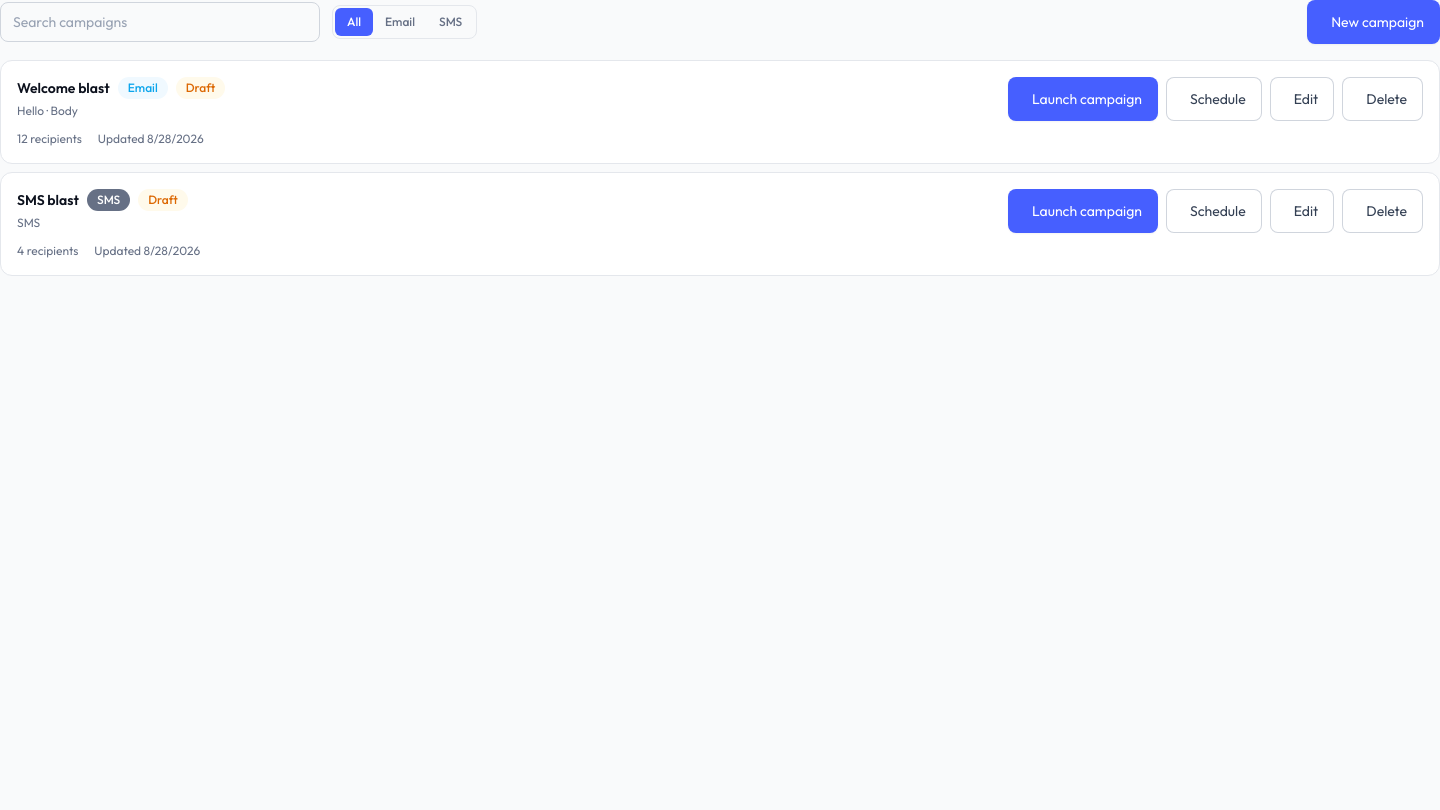
Test case: CampaignsTab › launches a draft campaign through confirmation flow
Expected: the heading "Welcome blast" is shown, [17,78,110,98]
What coordinates should you click on to do the following:
click the button "Launch campaign" in the row of "Welcome blast"
I would click on:
 (1083, 99)
Its box is [1008,77,1158,121].
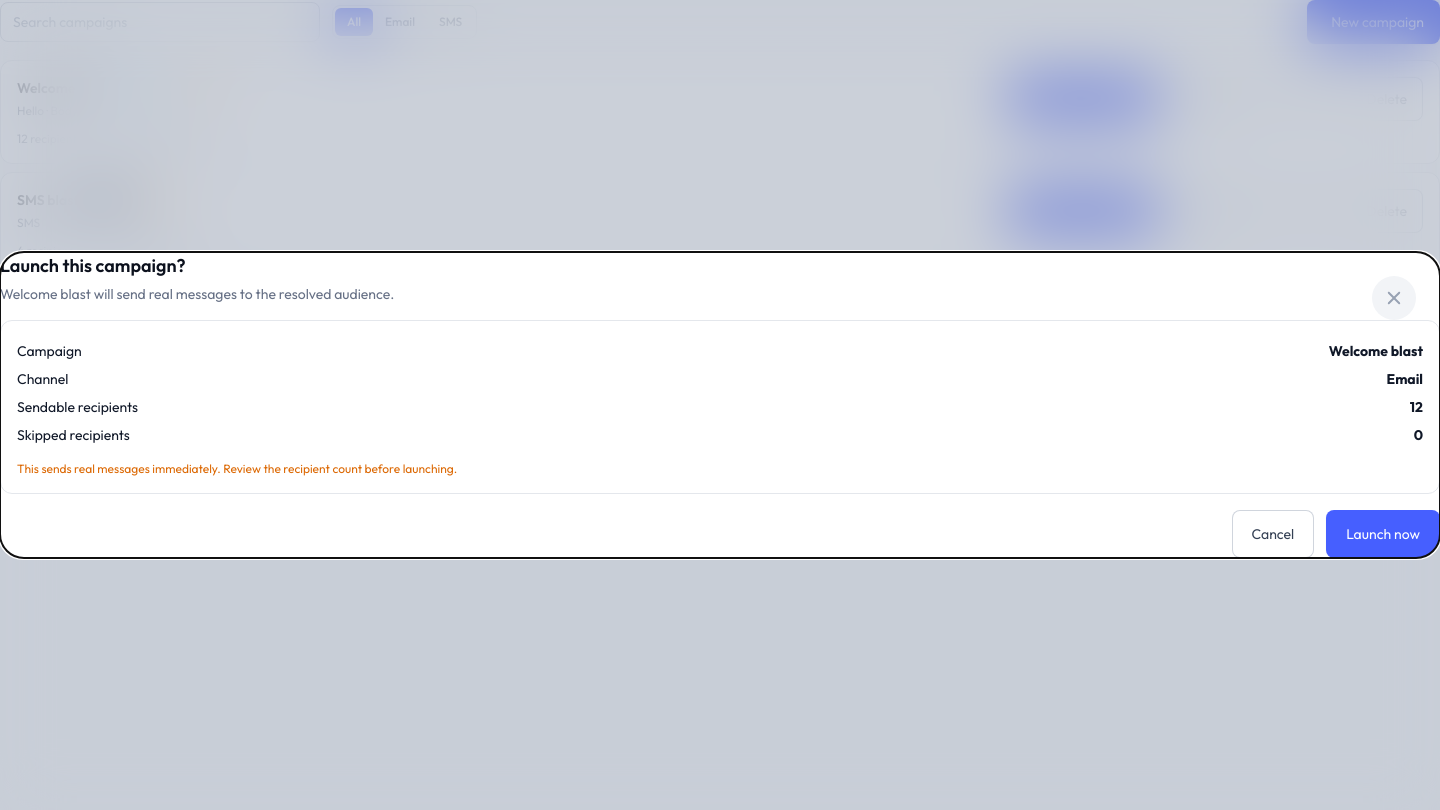
Now the heading "Launch this campaign?" is shown, box [0,254,186,277]
Now the text "This sends real messages immediately. Review the recipient count before launching." is shown, box [17,461,457,476]
What coordinates should you click on to do the following:
click the button "Launch now"
I would click on:
 (1383, 534)
Its box is [1326,510,1439,558].
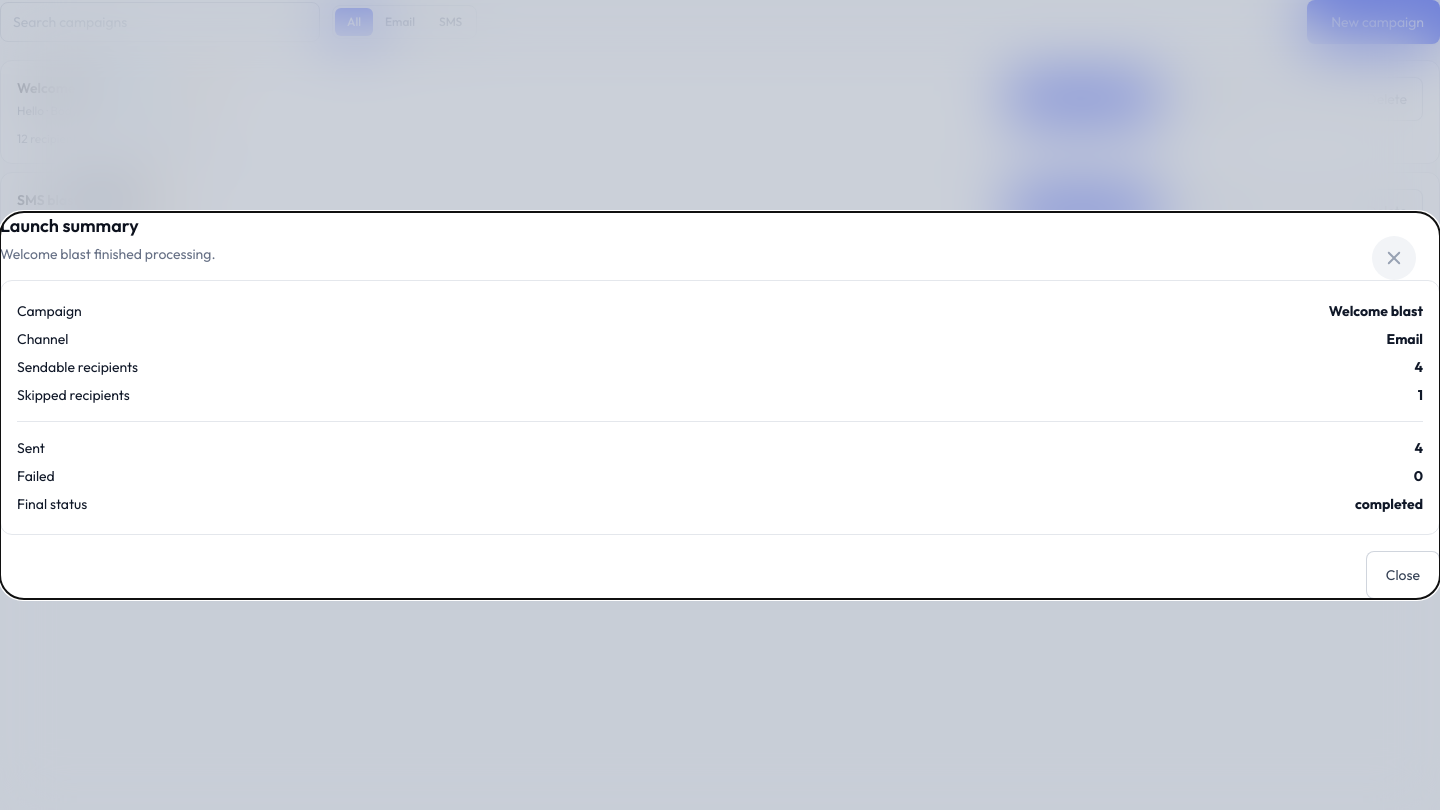
Now the heading "Launch summary" is shown, box [0,214,139,236]
Now the text "completed" is shown, box [1355,494,1423,514]
